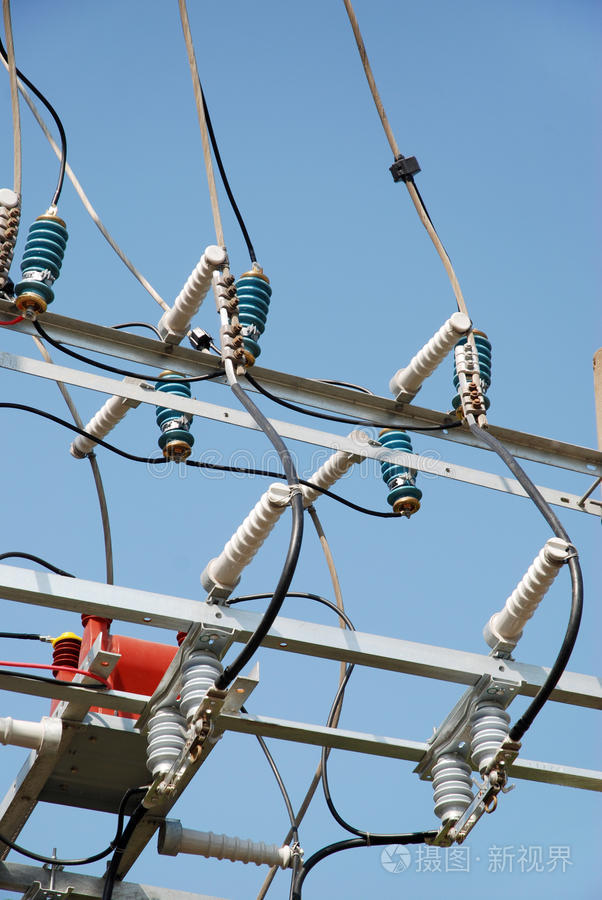insulator: (148, 369, 197, 434), (21, 217, 71, 279), (454, 330, 497, 394), (375, 425, 417, 489), (234, 278, 276, 328)
